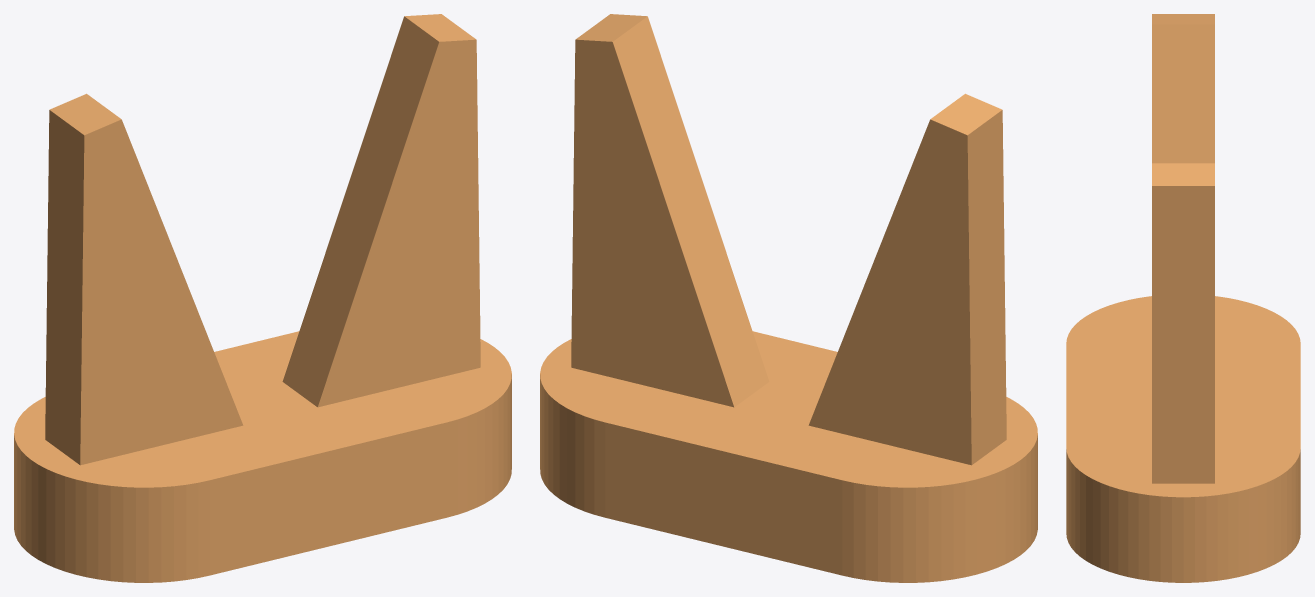
The model's file is pointy-ears.glb.
3 renders of one model, left to right at view 1: azimuth 30°, elevation 25°; view 2: azimuth 150°, elevation 25°; view 3: azimuth 270°, elevation 25°, orthographic. The views are drawn at different scales.
Visible parts, largest first — view 1: pointy-ears; view 2: pointy-ears; view 3: pointy-ears.
Boxes of the visible parts, x1,y1,x2,y2 form: pointy-ears: (14, 14, 511, 582); pointy-ears: (540, 14, 1037, 582); pointy-ears: (1066, 14, 1300, 582).
Bounding box in the file's own units: 0.0244 × 0.0217 × 0.0119.
